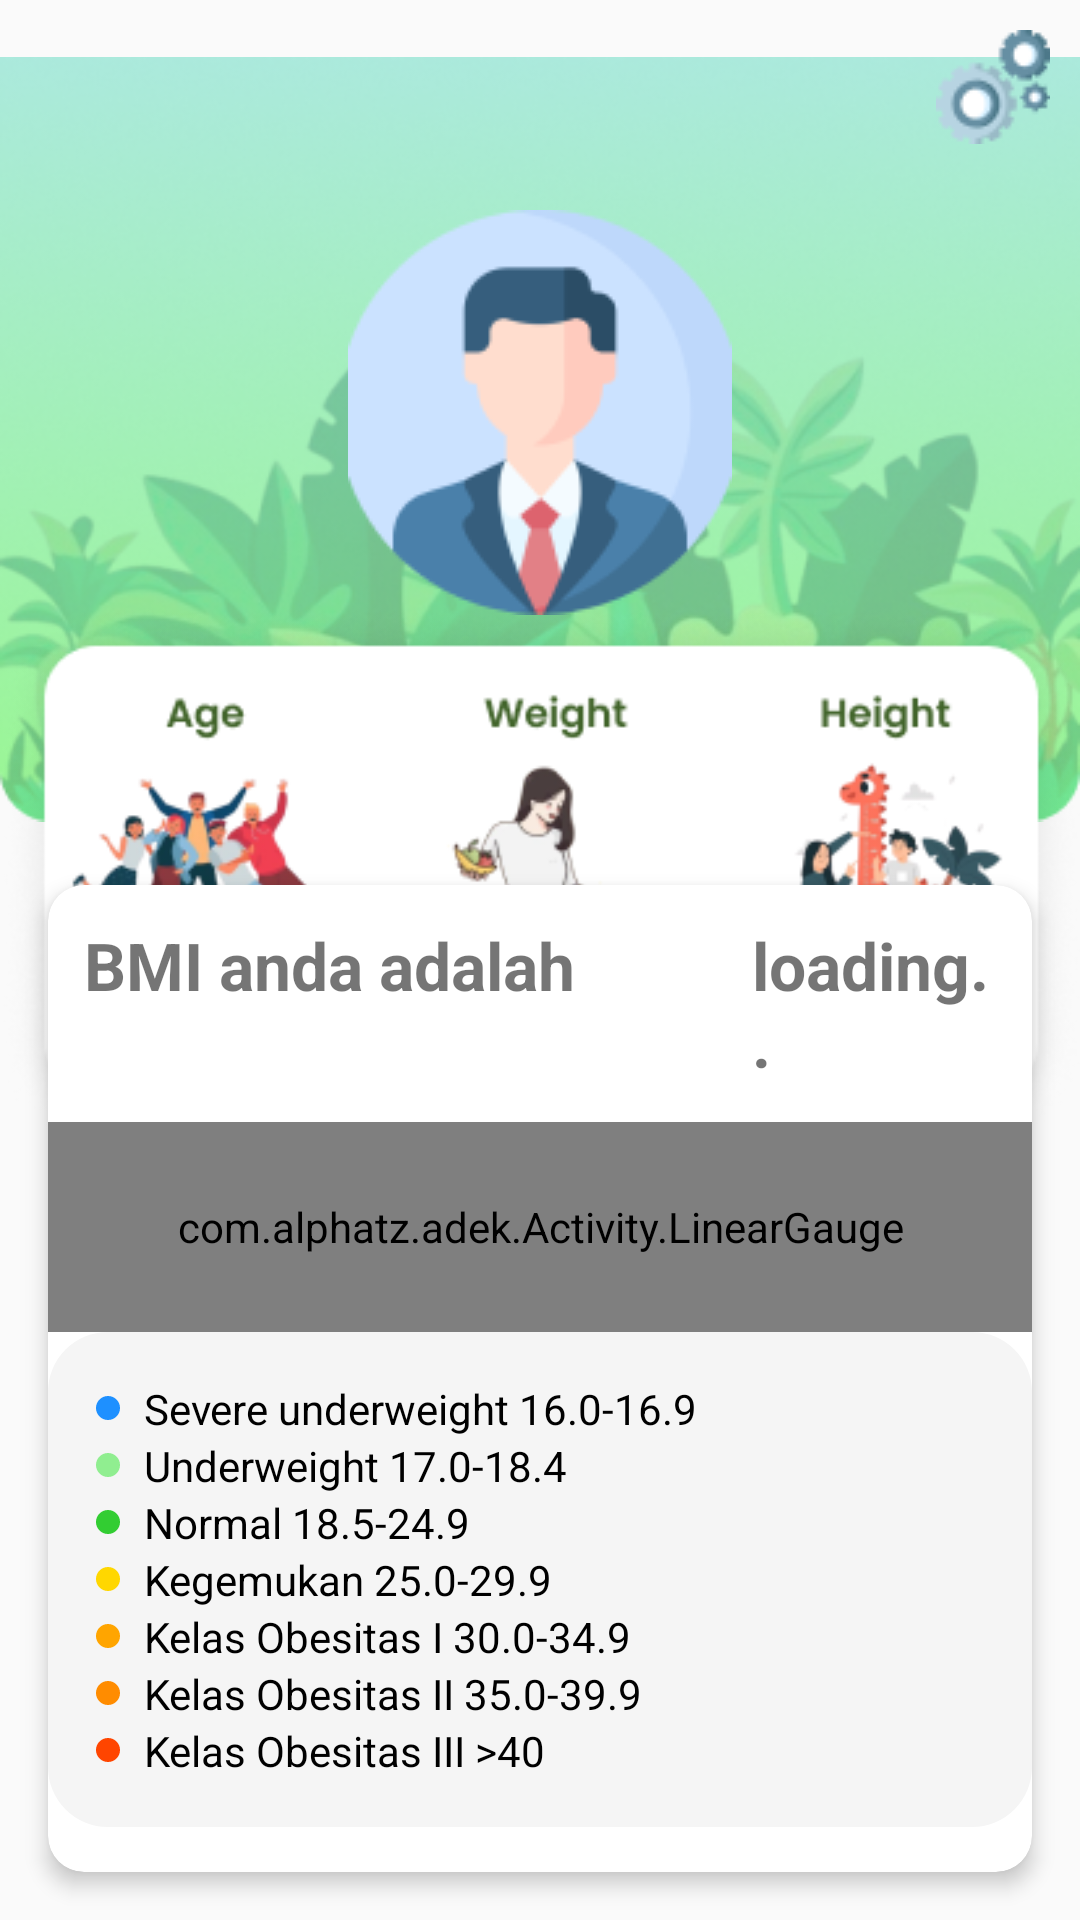

Named icons in this screenshot (1080×1920) and their bounding boxes, (x1, y1, x2, y2):
setings: (936, 30, 1050, 144)
